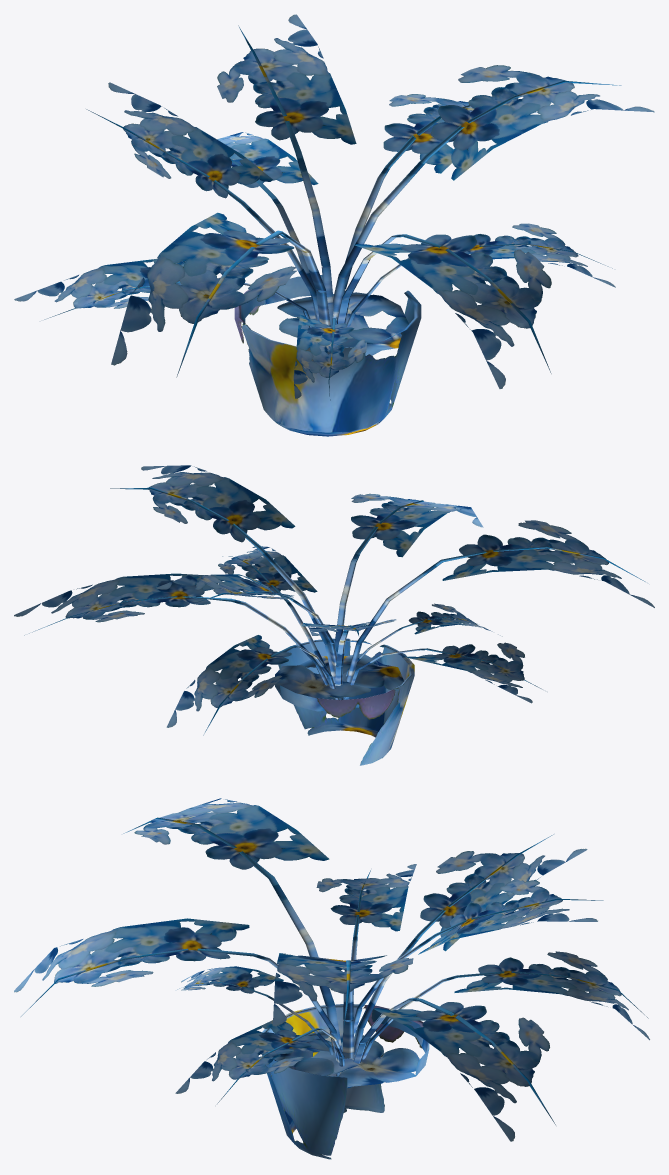
Rendered from Tropical plany.fbx.
The picture shows the model from 3 angles, top to bottom: view 1: azimuth 30°, elevation 25°; view 2: azimuth 150°, elevation 25°; view 3: azimuth 270°, elevation 25°; orthographic projection. The views are drawn at different scales.
Parts seen in each view (by area): view 1: tropical:tropical; view 2: tropical:tropical; view 3: tropical:tropical.
Part boxes in pixels (<box>): tropical:tropical: <box>14,14,654,436</box>; tropical:tropical: <box>14,465,654,765</box>; tropical:tropical: <box>14,798,649,1159</box>.
Bounding box in the file's own units: 790 × 332 × 733.
